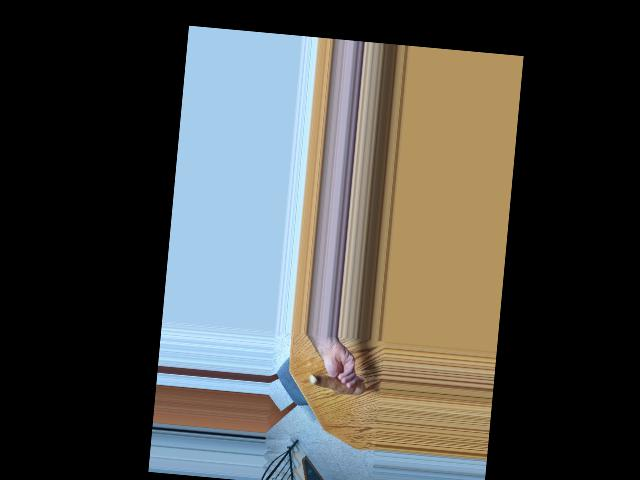sweet_potato: (310, 368, 367, 398)
